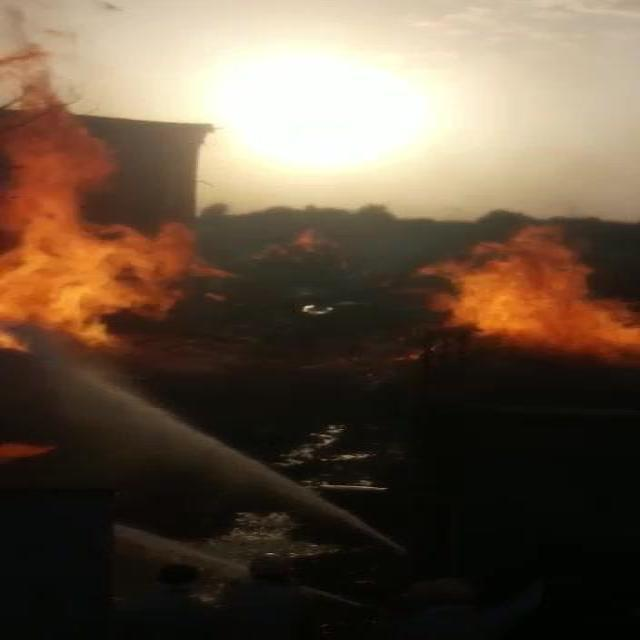Fire: (0, 64, 207, 372), (439, 234, 640, 367)
